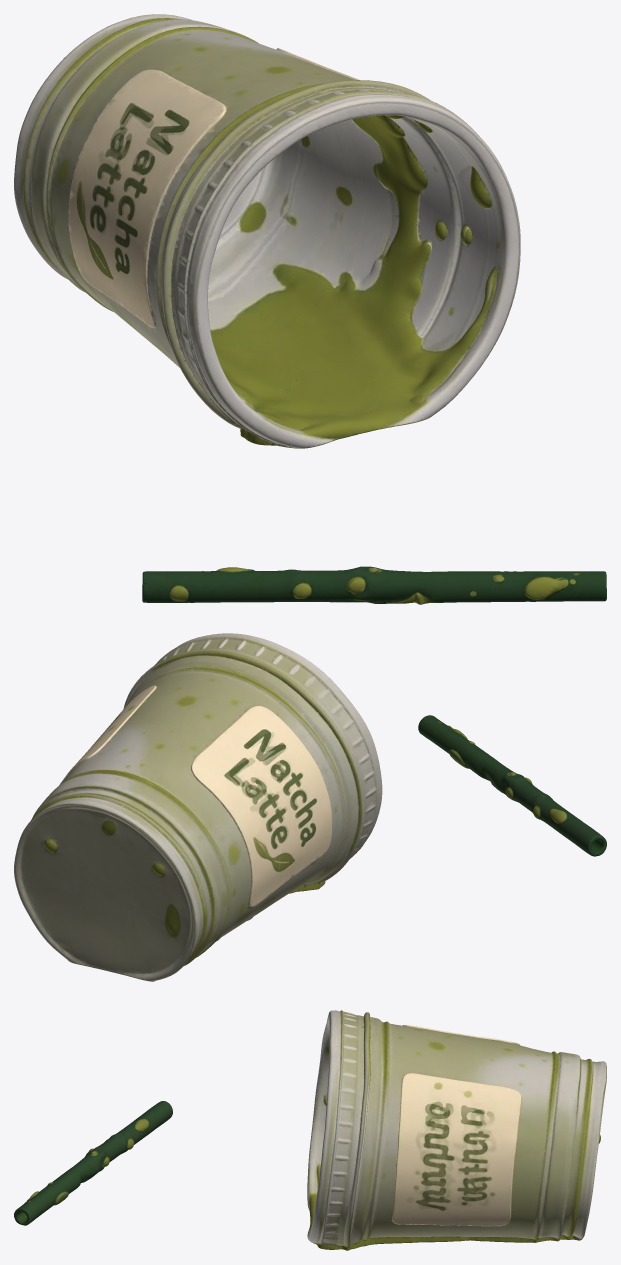
Rendered from matcha.glb.
3 renders of one model, top to bottom at view 1: azimuth 30°, elevation 25°; view 2: azimuth 150°, elevation 25°; view 3: azimuth 270°, elevation 25°, orthographic. The views are drawn at different scales.
Visible parts, largest first — view 1: mesh_node; view 2: mesh_node; view 3: mesh_node.
Boxes of the visible parts, x1=… form: mesh_node: x1=14, y1=14, x2=606, y2=604; mesh_node: x1=14, y1=633, x2=606, y2=981; mesh_node: x1=14, y1=1010, x2=606, y2=1250.
Size of the model in its own units: 1.19 by 0.7096 by 1.9.
1 material, 1 textured.
